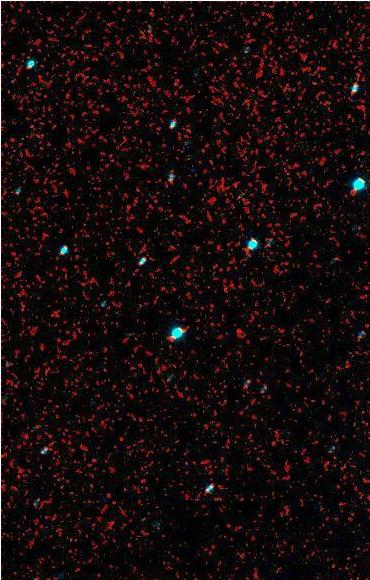star: (223, 316, 253, 346)
